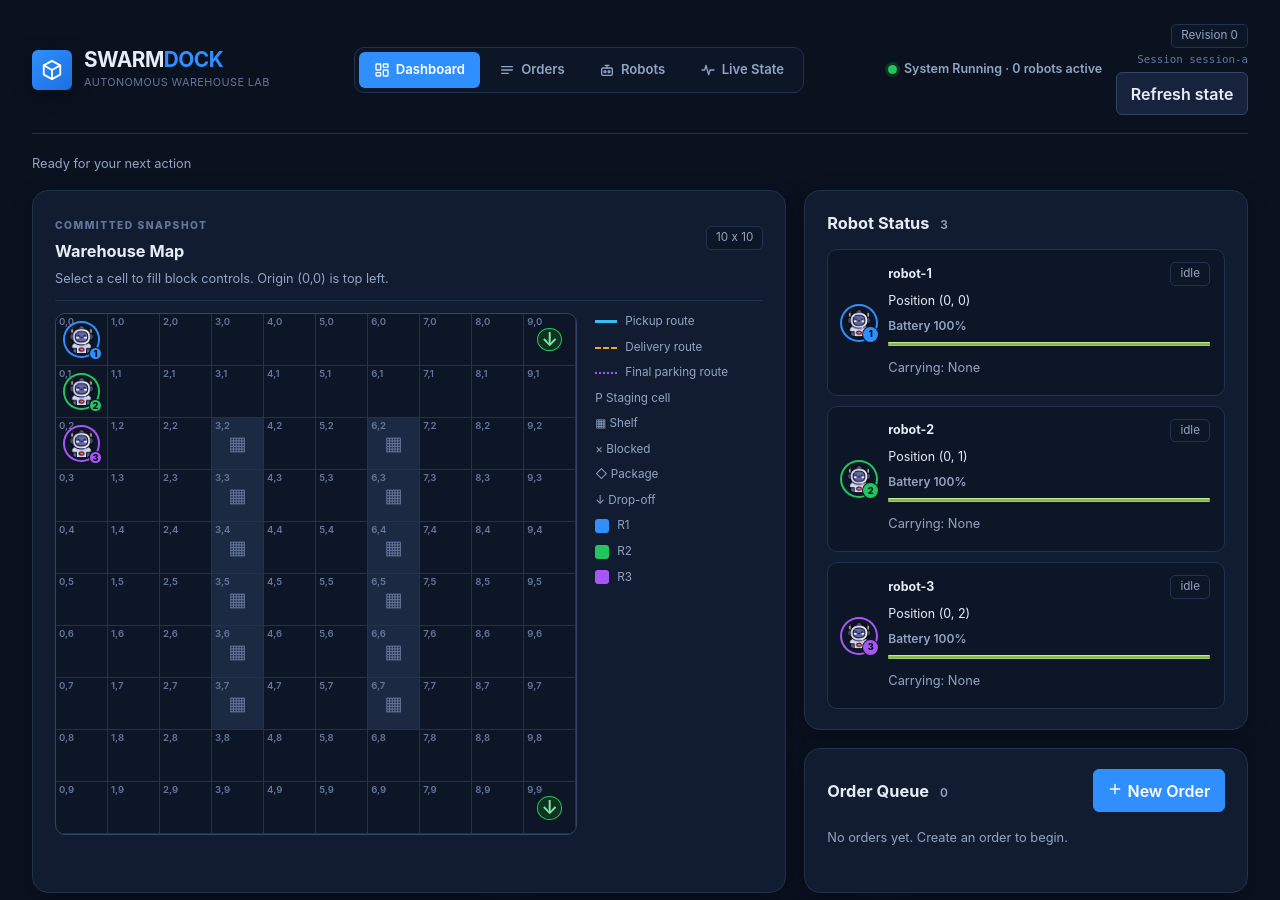
Test: create order sends exact integers and does not plan automatically
The image size is (1280, 900).
Expected: the text "Session session-a" is shown, [1137,52,1248,68]
Click the button "New Order" at (1159, 790), box [1093,769,1225,812]
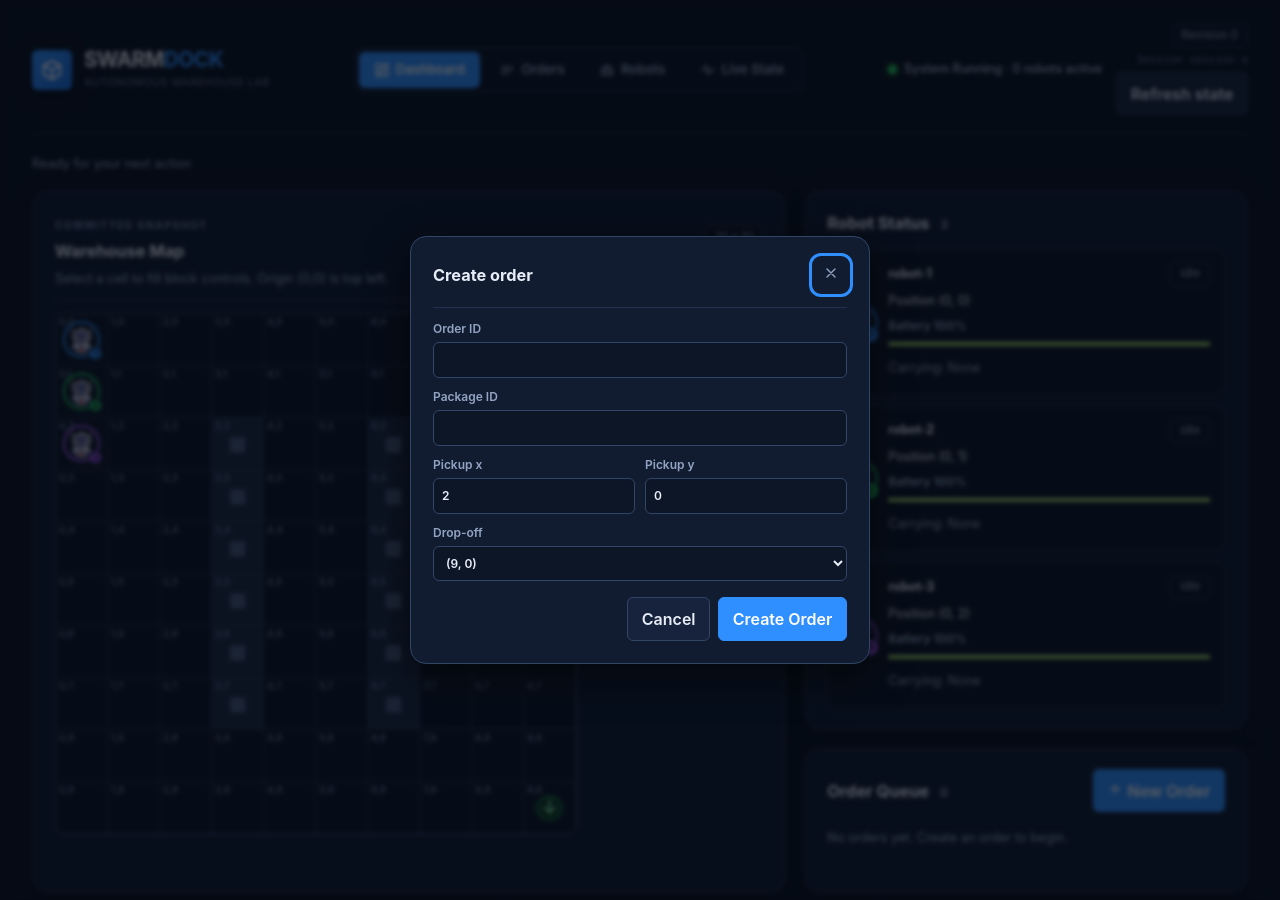
Result: the field labelled "Order ID" is shown
Type "o" into the field labelled "Order ID" at (640, 360), box [433,342,847,378]
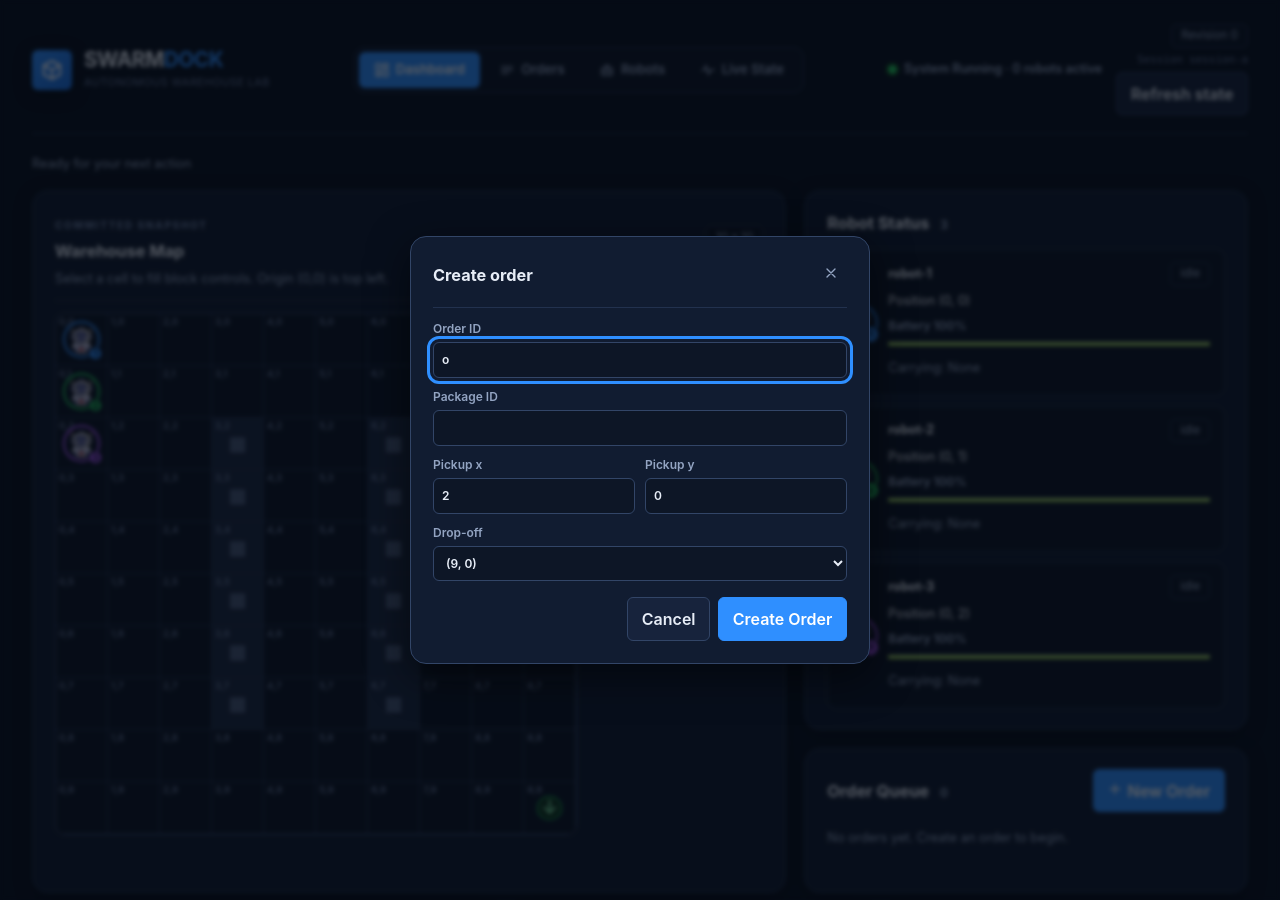
Type "p" into the field labelled "Package ID" at (640, 428), box [433,410,847,446]
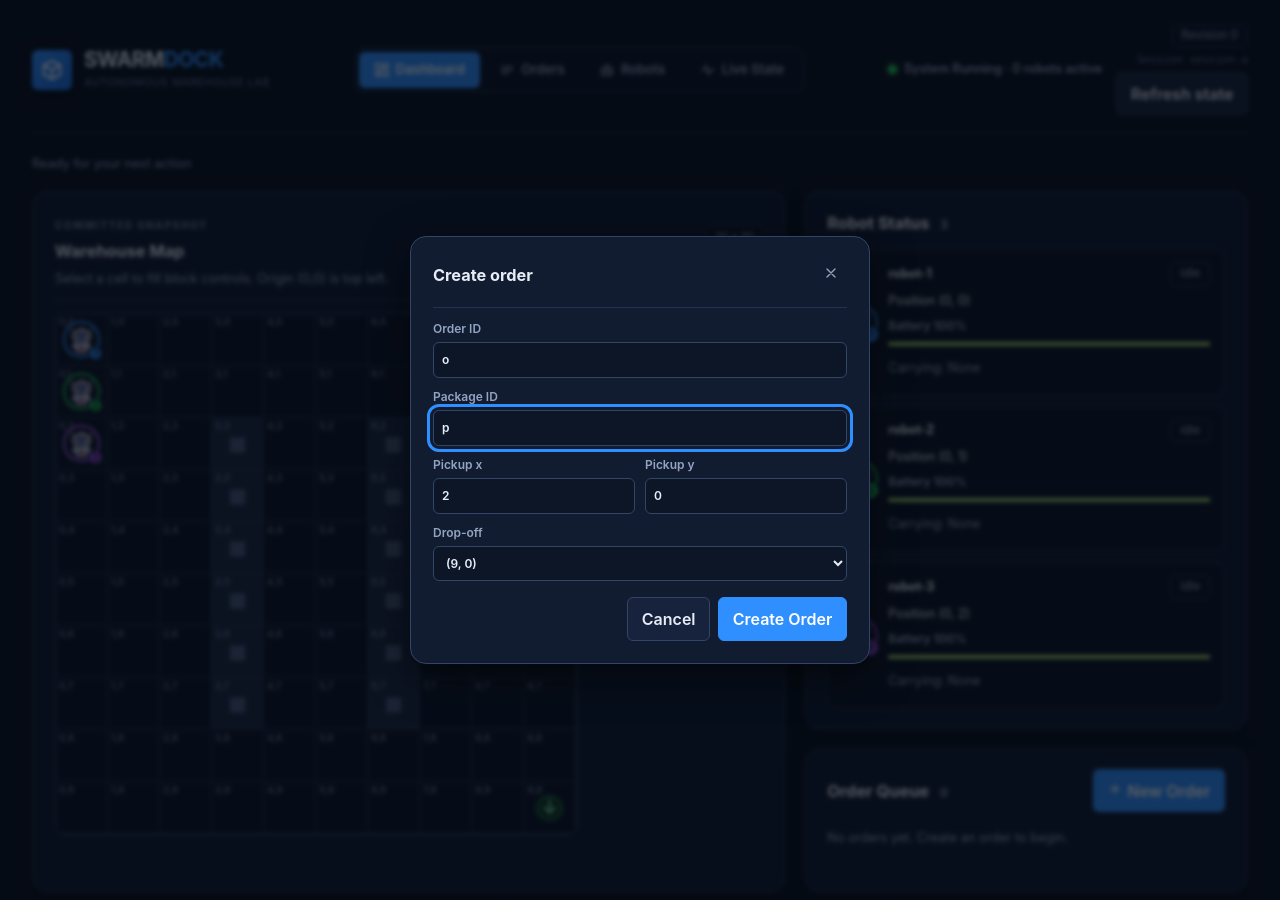
Select "(9, 0)" in the dropdown labelled "Drop-off" at (640, 564), box [433,546,847,581]
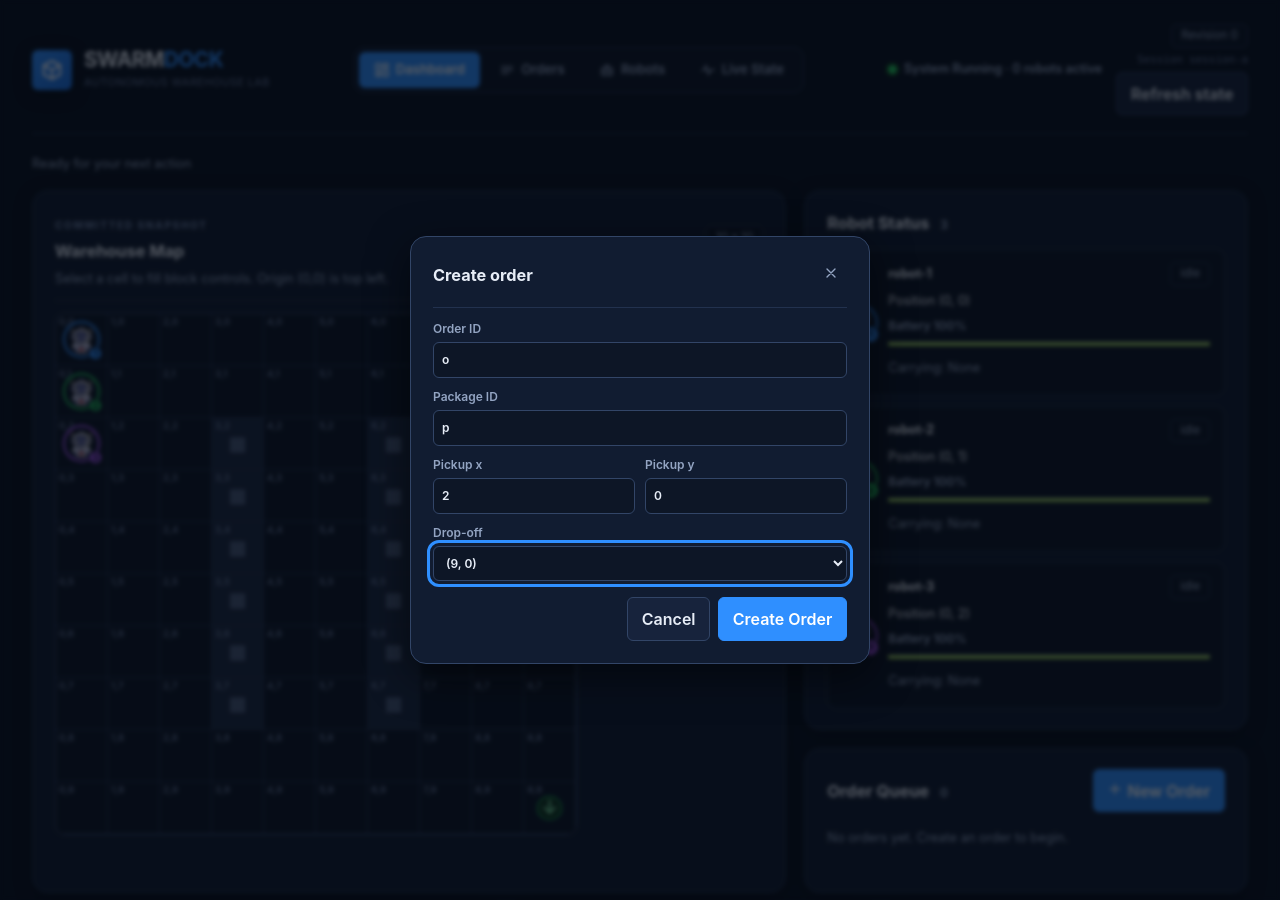
Click the button "Create Order" at (783, 619), box [718,597,847,641]
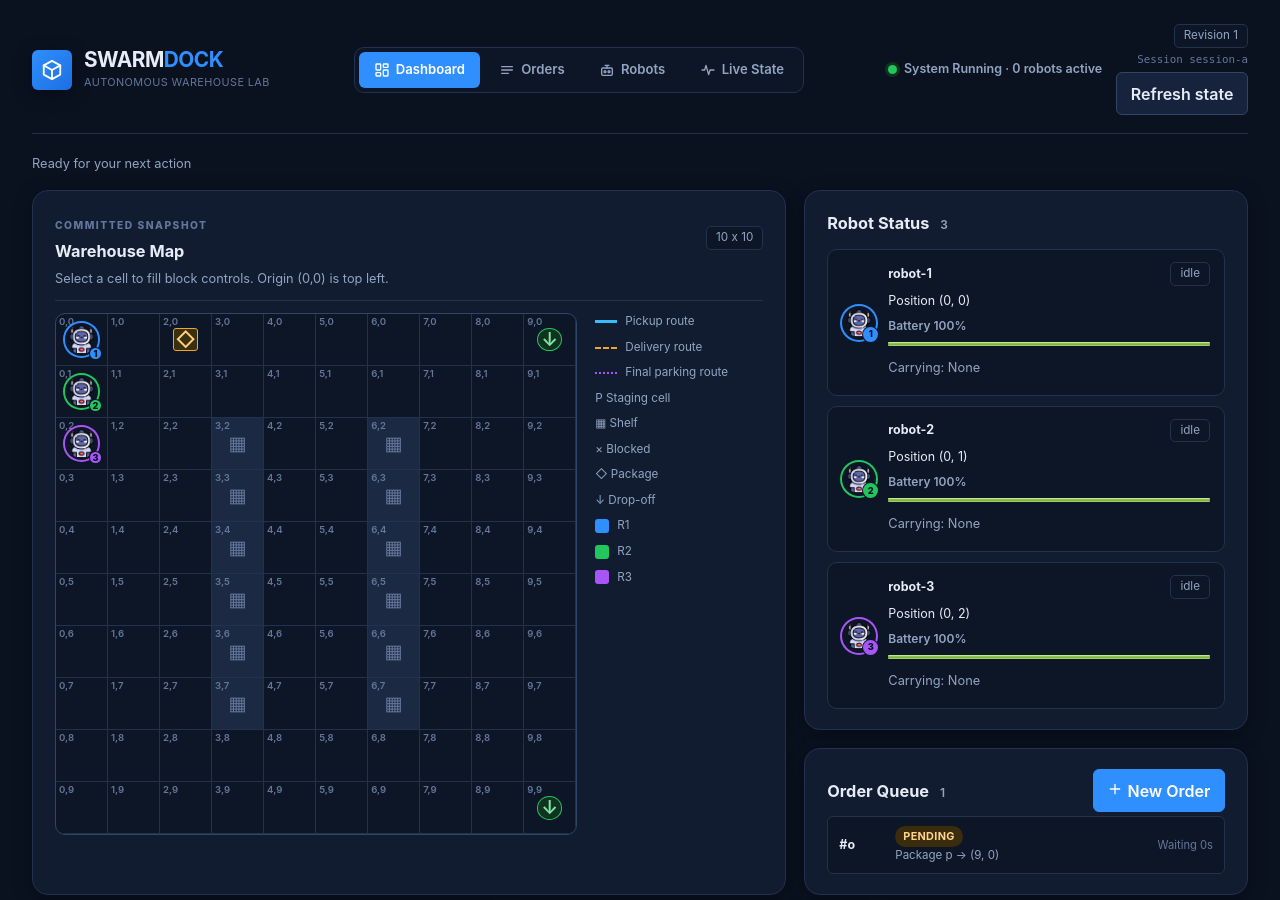
Result: the label labelled "Order ID" is gone
Result: the text "pending" is shown at [895,826,963,847]
